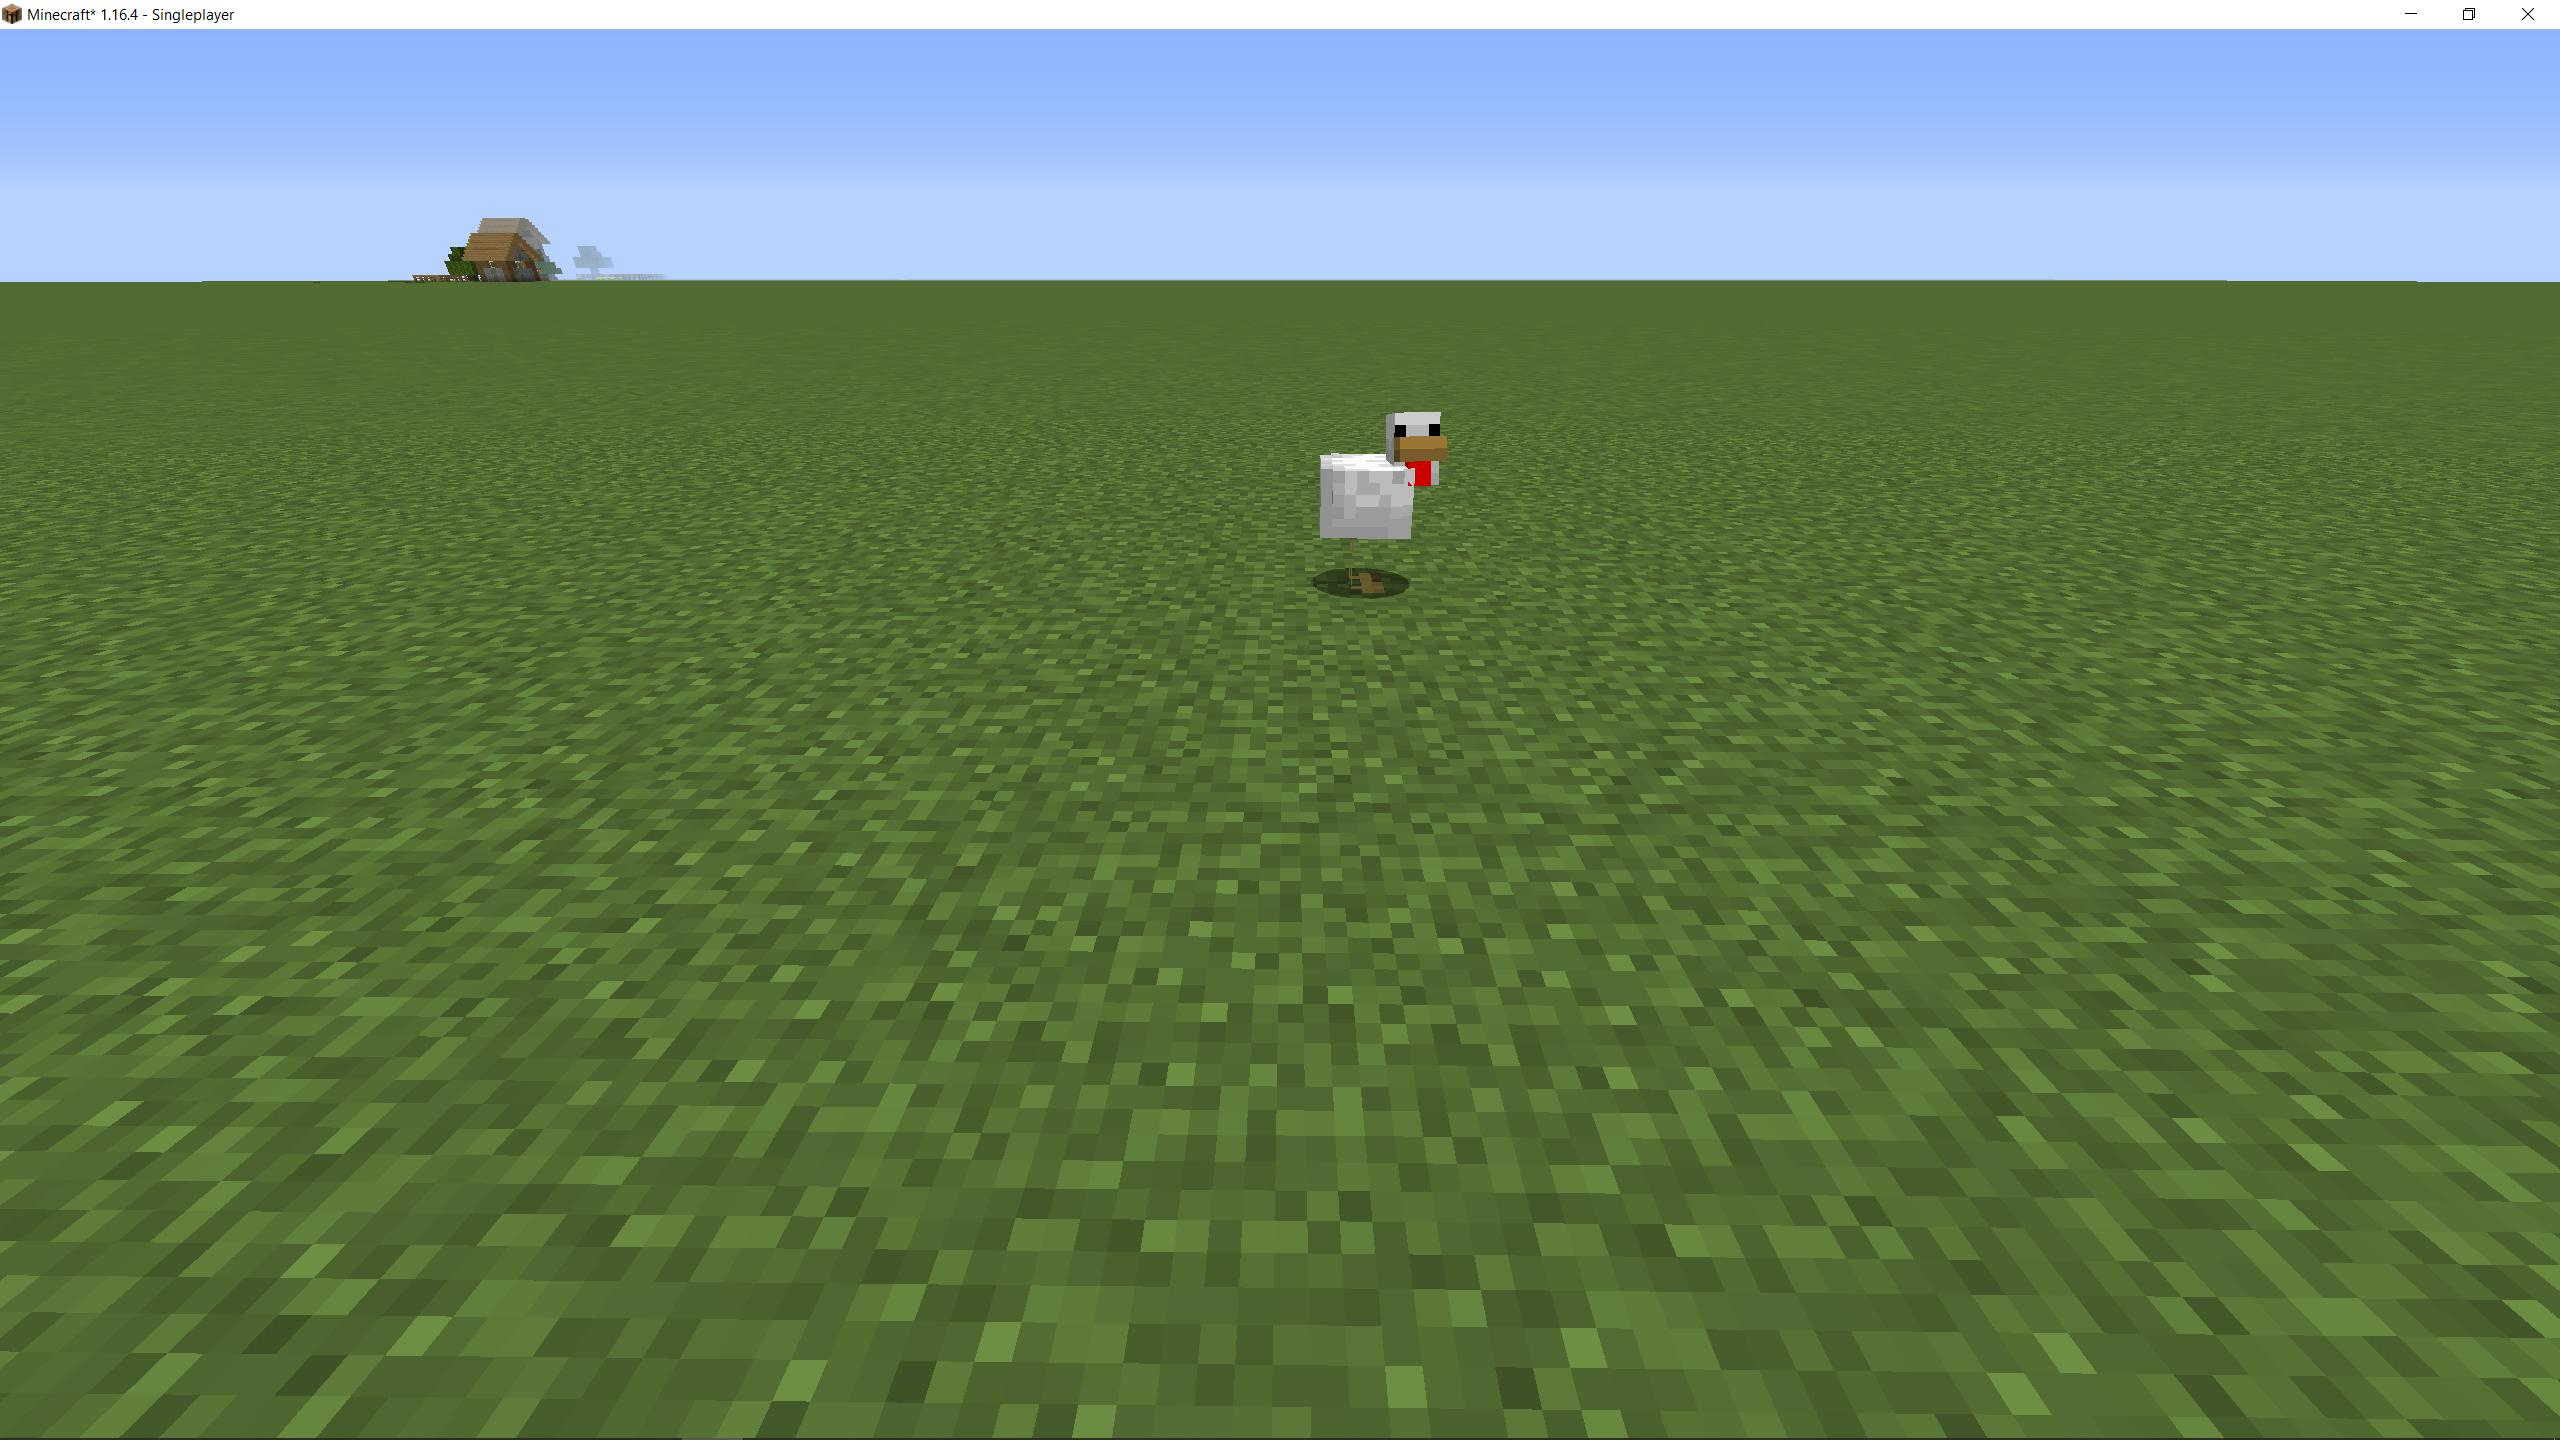chicken: (1312, 406, 1452, 601)
